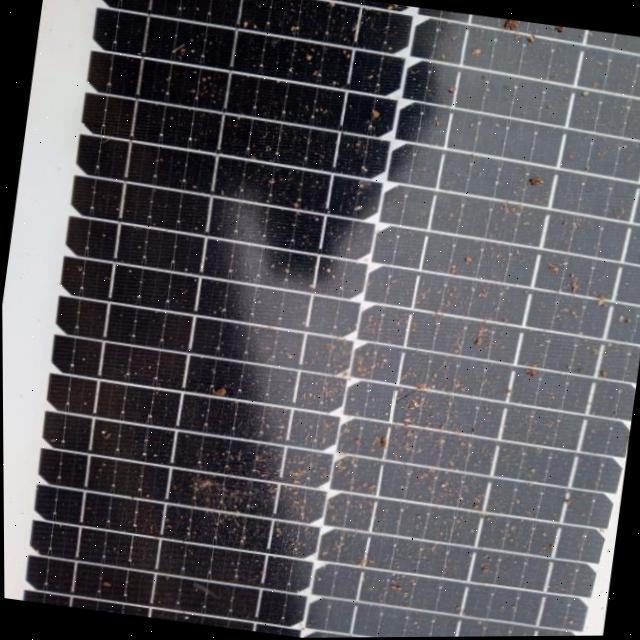Surface Contaminant: (26, 0, 640, 638)
